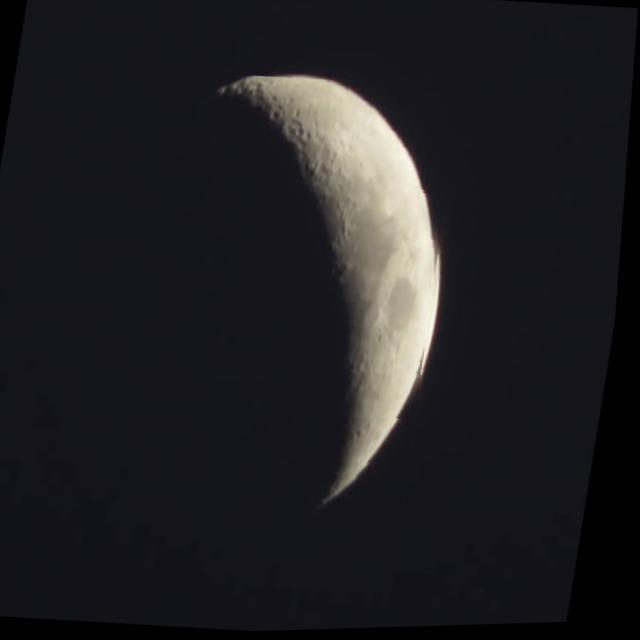moon: (74, 61, 474, 550)
